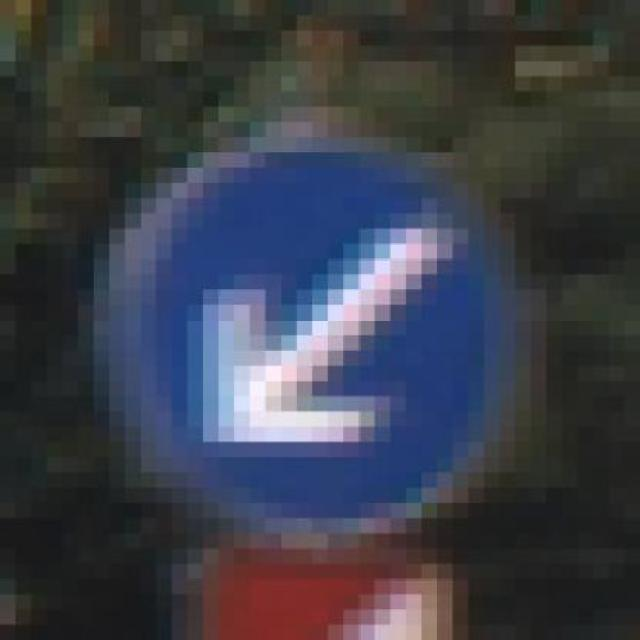Keep-Left: (108, 107, 578, 564)
